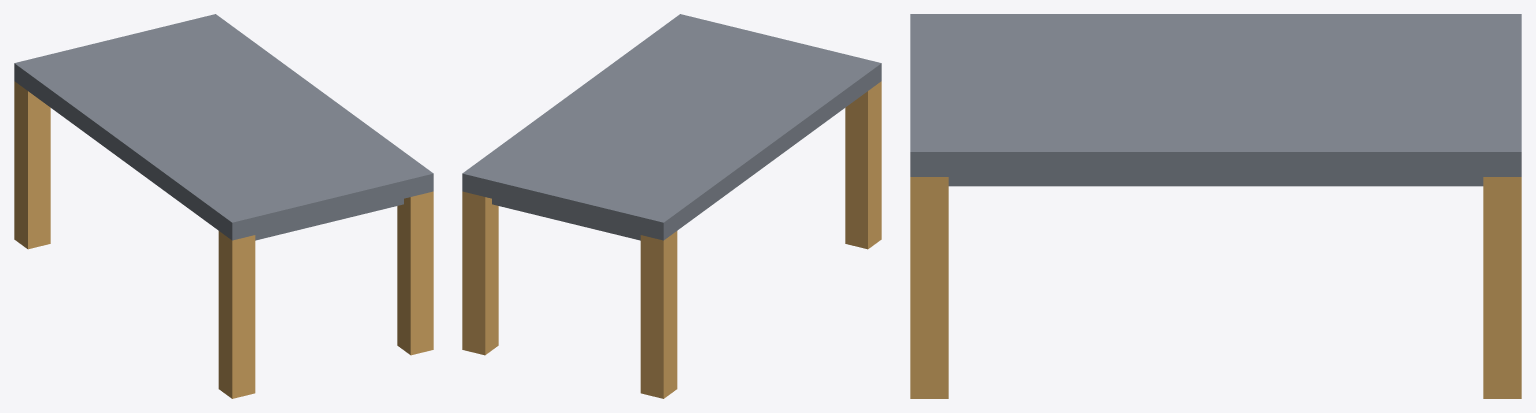
Rendered from MP_Prebuilt_StudyTable.fbx.
3 views of the same model, side by side, from view 1: azimuth 30°, elevation 25°; view 2: azimuth 150°, elevation 25°; view 3: azimuth 270°, elevation 25° (orthographic). The views are drawn at different scales.
Visible parts, largest first — view 1: Table_Body; view 2: Table_Body; view 3: Table_Body.
Part boxes in pixels (x1,y1,x2,y2): Table_Body: (14,14,433,398); Table_Body: (462,14,881,398); Table_Body: (910,14,1521,398).
Bounding box in the file's own units: 83.57 × 69.86 × 157.
